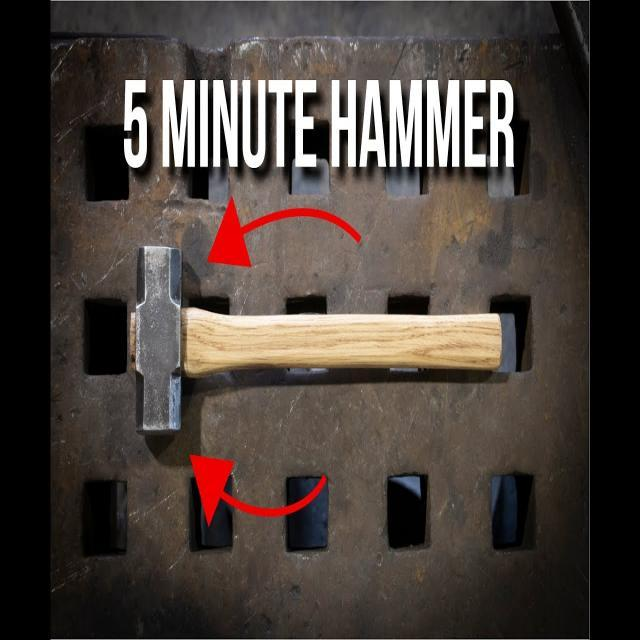hammer: (127, 234, 506, 440)
